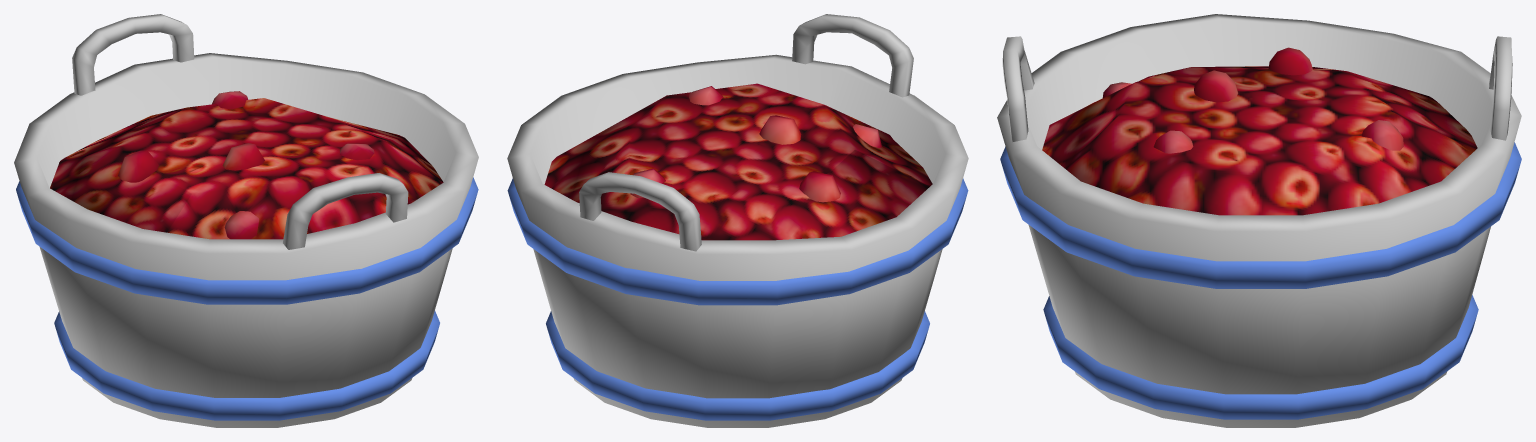
File: Basin_Apple.fbx
The picture shows the model from 3 angles, left to right: view 1: azimuth 30°, elevation 25°; view 2: azimuth 150°, elevation 25°; view 3: azimuth 270°, elevation 25°; orthographic projection. The views are drawn at different scales.
Visible parts, largest first — view 1: Basin_Apple; view 2: Basin_Apple; view 3: Basin_Apple.
Part boxes in pixels (left/top/right/bottom): Basin_Apple: left=14, top=14, right=478, bottom=427; Basin_Apple: left=507, top=14, right=968, bottom=427; Basin_Apple: left=997, top=14, right=1521, bottom=427.
Bounding box in the file's own units: 1.14 × 0.7097 × 1.16.
